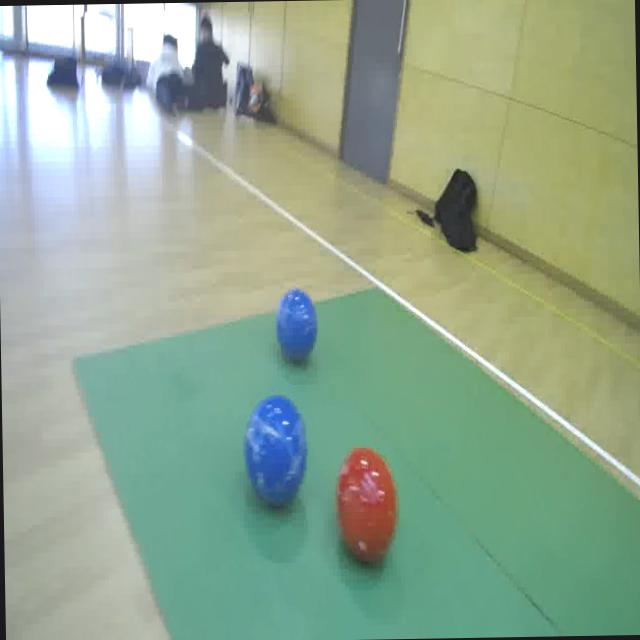blue_ball: (245, 395, 309, 515), (272, 284, 318, 362)
red_ball: (335, 441, 399, 569)
